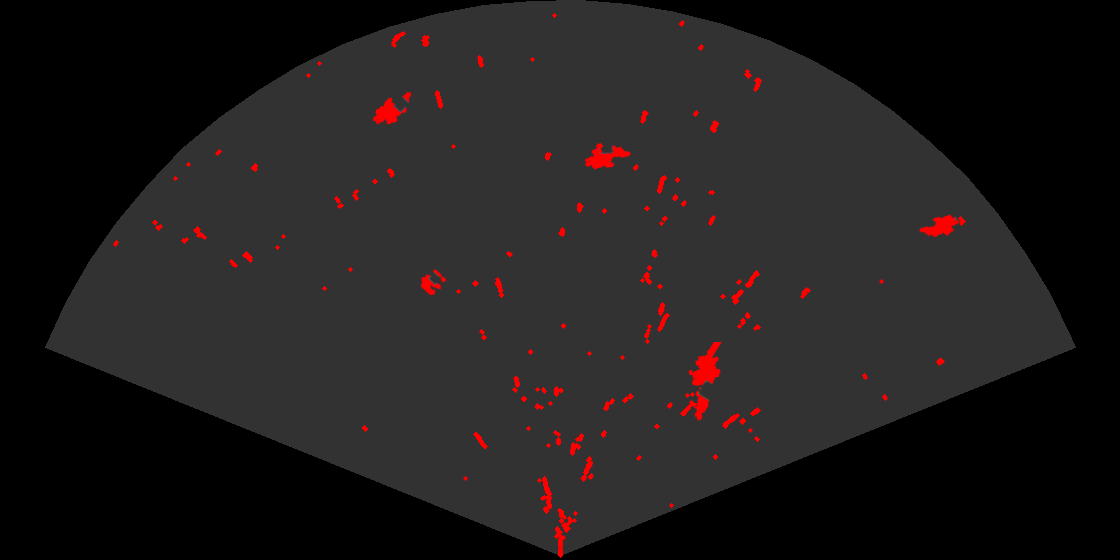AUV: (371, 90, 413, 126), (583, 144, 633, 171), (917, 213, 961, 239)
ball: (419, 268, 448, 297)
frogman: (687, 342, 723, 422)
